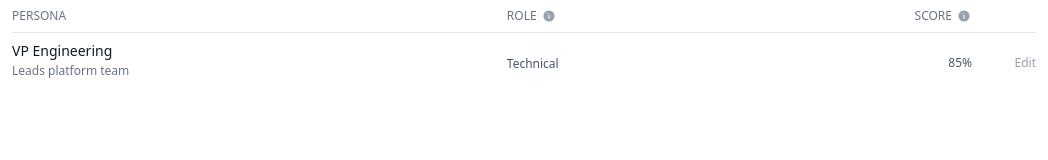
PersonaTable › inline editing › shows title input when Edit is clicked
The width and height of the screenshot is (1048, 160).
Click the button with aria-label "Edit VP Engineering" at [1025, 62], box [1014,54,1036,70]
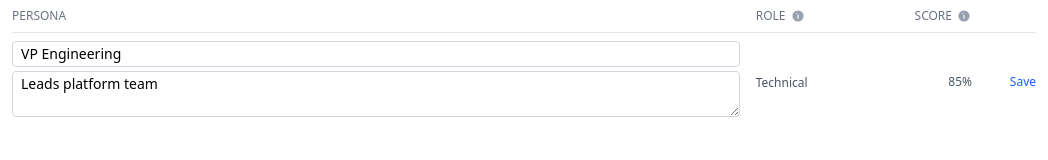
Check: the field named "Edit persona title" is shown, box [12,41,740,67]
